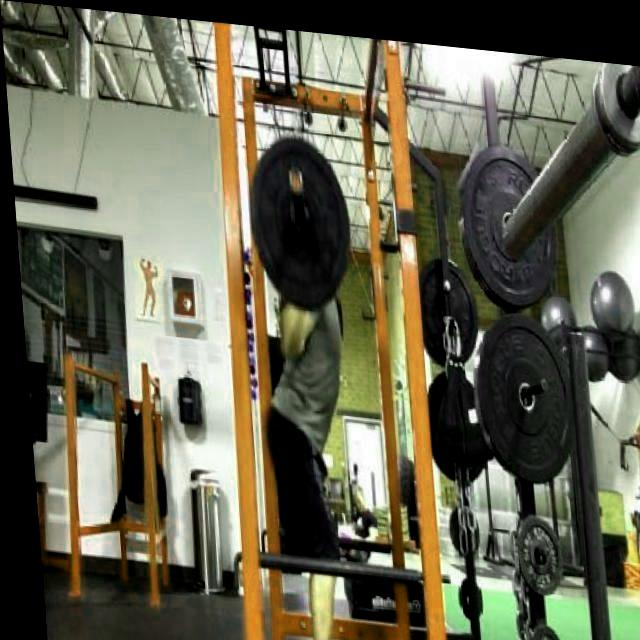barbell: (238, 128, 357, 312), (467, 302, 577, 479)
